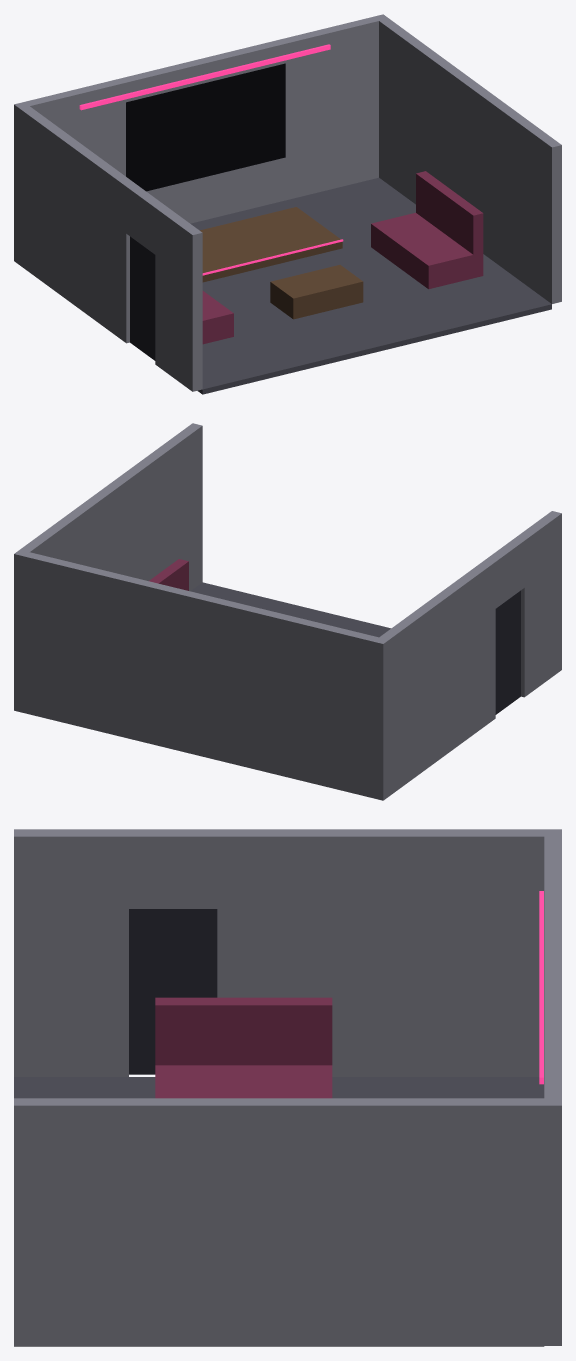
3 views of the same model, one above another, from view 1: azimuth 30°, elevation 25°; view 2: azimuth 150°, elevation 25°; view 3: azimuth 270°, elevation 25° (orthographic). The views are drawn at different scales.
Visible parts, largest first — view 1: Floor, Wall_Back, Wall_Right, Wall_Left_A, SCREEN, Wall_Left_B, Singer_Riser, Couch_Right_Seat, Table, Couch_Right_Back, DOOR, Wall_Left_Top (+2 smaller); view 2: Wall_Back, Wall_Left_A, Wall_Right, Wall_Left_B, DOOR, Floor, Wall_Left_Top, Couch_Right_Back; view 3: Wall_Right, Wall_Left_A, Wall_Left_B, Couch_Left_Back, DOOR, Wall_Back, Floor, Wall_Left_Top, Couch_Left_Seat, NEON_01_Strip.
Part boxes in pixels (left/top/right/bottom): Floor: left=190, top=177, right=551, bottom=394; Wall_Back: left=14, top=14, right=388, bottom=264; Wall_Right: left=379, top=18, right=561, bottom=303; Wall_Left_A: left=19, top=106, right=135, bottom=343; SCREEN: left=126, top=63, right=285, bottom=191; Wall_Left_B: left=155, top=205, right=202, bottom=391; Singer_Riser: left=200, top=207, right=342, bottom=282; Couch_Right_Seat: left=371, top=212, right=473, bottom=289; Table: left=270, top=265, right=363, bottom=319; Couch_Right_Back: left=416, top=171, right=483, bottom=278; DOOR: left=130, top=236, right=155, bottom=360; Wall_Left_Top: left=126, top=184, right=164, bottom=254; Wall_Back: left=14, top=550, right=388, bottom=800; Wall_Left_A: left=379, top=559, right=495, bottom=796; Wall_Right: left=20, top=423, right=202, bottom=591; Wall_Left_B: left=515, top=511, right=561, bottom=697; DOOR: left=495, top=590, right=520, bottom=714; Floor: left=190, top=582, right=390, bottom=637; Wall_Left_Top: left=486, top=538, right=524, bottom=608; Couch_Right_Back: left=149, top=559, right=188, bottom=590; Wall_Right: left=14, top=1098, right=544, bottom=1345; Wall_Left_A: left=217, top=829, right=544, bottom=1076; Wall_Left_B: left=14, top=829, right=128, bottom=1076; Couch_Left_Back: left=155, top=997, right=332, bottom=1065; DOOR: left=129, top=909, right=217, bottom=1074; Wall_Back: left=544, top=829, right=561, bottom=1345; Floor: left=14, top=1077, right=544, bottom=1346; Wall_Left_Top: left=129, top=829, right=217, bottom=908; Couch_Left_Seat: left=155, top=1065, right=332, bottom=1098; NEON_01_Strip: left=539, top=891, right=543, bottom=1084.
Bounding box in the file's own units: 7.4 × 3.1 × 6.2.
